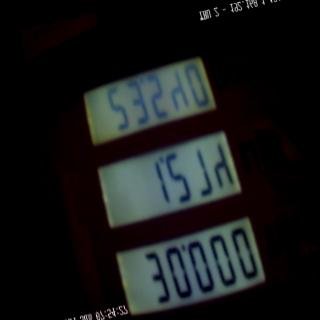screen: (58, 14, 276, 320)
